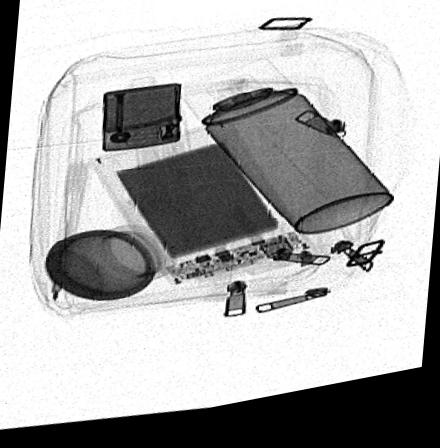Lighter: (100, 88, 182, 154)
Powerbank: (87, 128, 319, 298)
Sprayer: (174, 69, 393, 246)
